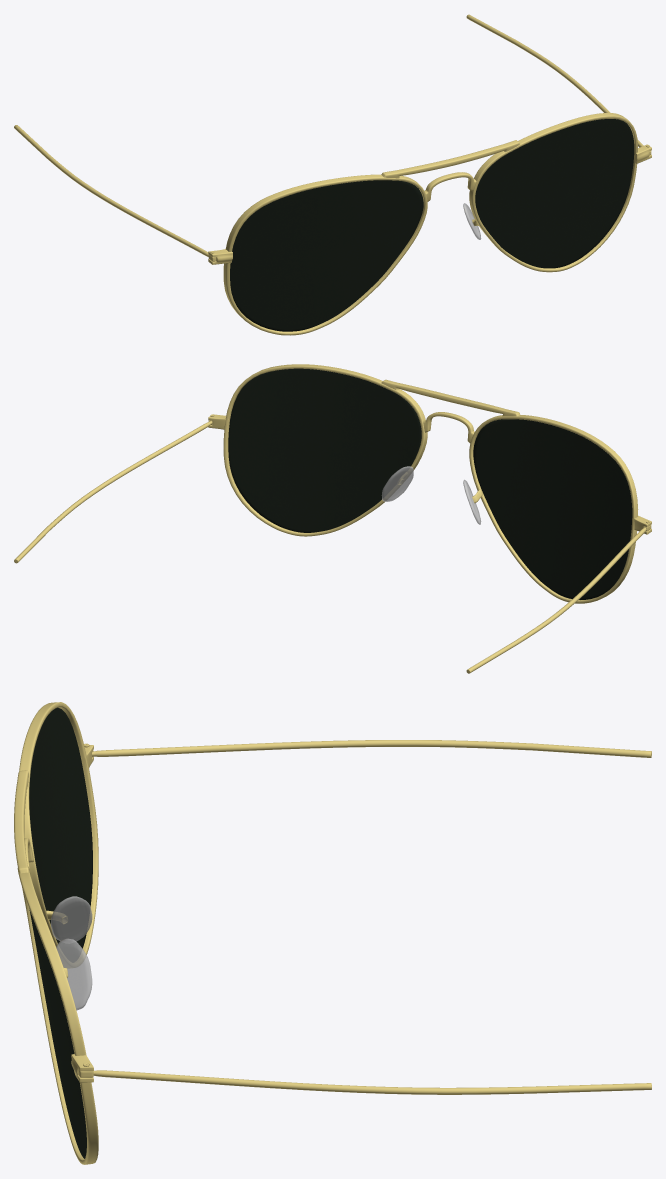
File: AVIATOR_app.glb
3 views of the same model, one above another, from view 1: azimuth 30°, elevation 25°; view 2: azimuth 150°, elevation 25°; view 3: azimuth 270°, elevation 25° (orthographic). The views are drawn at different scales.
Parts seen in each view (by area): view 1: armacao_obj; view 2: armacao_obj; view 3: armacao_obj.
Boxes of the visible parts, x1,y1,x2,y2 form: armacao_obj: [14, 14, 651, 335]; armacao_obj: [14, 364, 651, 673]; armacao_obj: [14, 702, 651, 1164].
Size of the model in its own units: 0.1552 by 0.0498 by 0.1193.
3 materials, 3 textured.
